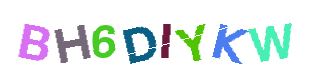6: (99, 0, 179, 80)
B: (5, 0, 85, 80)
D: (105, 0, 185, 80)
H: (45, 0, 125, 80)
I: (115, 0, 195, 80)
K: (182, 0, 262, 80)
W: (221, 0, 301, 80)
Y: (126, 0, 206, 80)
